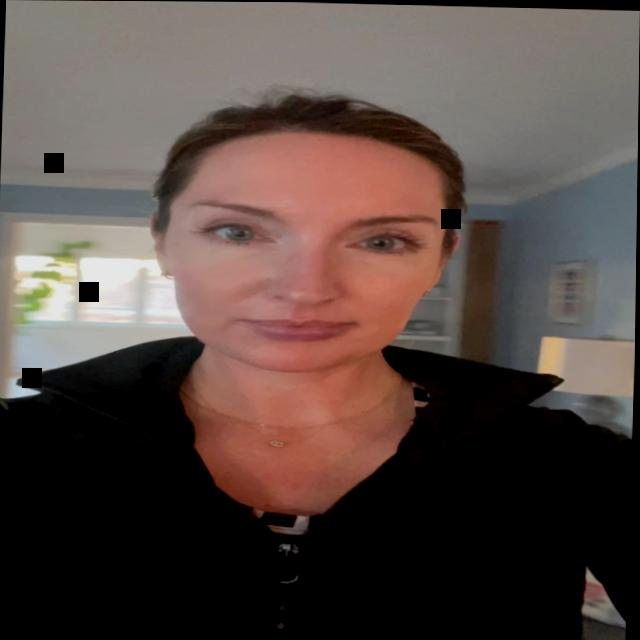NO-Mask: (137, 102, 472, 403)
